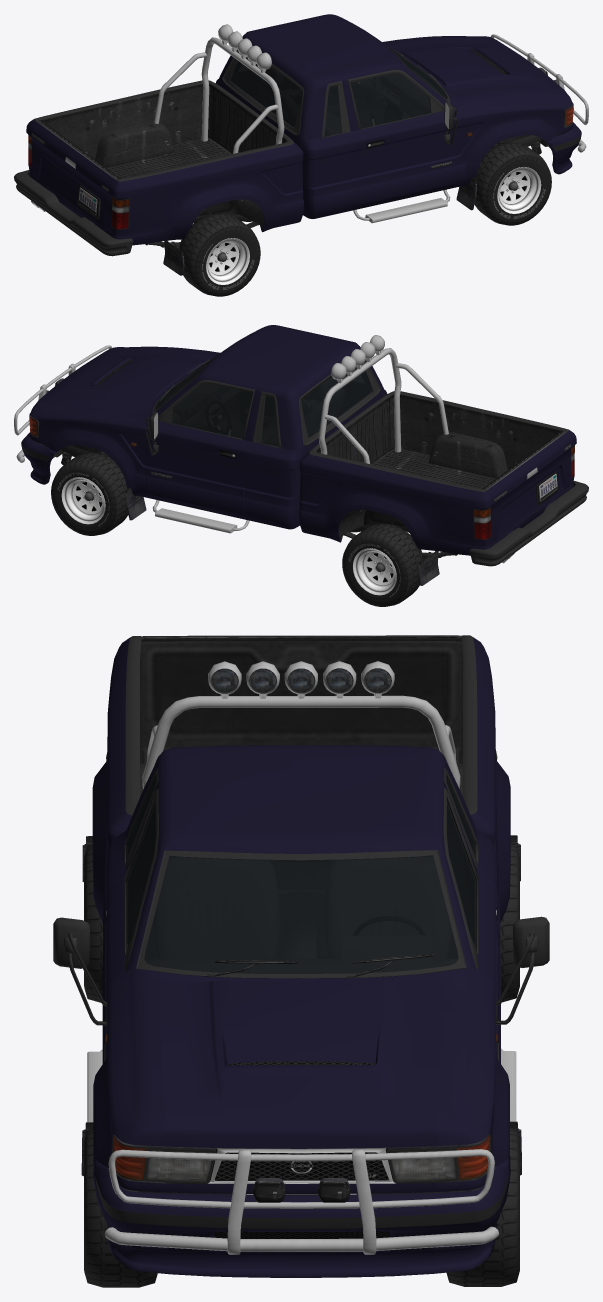
The model's file is lightbody85.glb.
3 views of the same model, one above another, from view 1: azimuth 30°, elevation 25°; view 2: azimuth 150°, elevation 25°; view 3: azimuth 270°, elevation 25° (orthographic). The views are drawn at different scales.
Parts seen in each view (by area): view 1: krmlgtbdy85_Body_krmlgtbdy85_Bodymat_0, krmlgtbdy85_Bottom_UCB_BOTTOM_0, krmlgtbdy85_Hood_krmlgtbdy85_Bodymat_0, krmlgtbdy85_Interior_UCB_Interiors_1_0, krmlgtbdy85_WheelStock_RR_RO1a_Tire_0, krmlgtbdy85_WheelStock_FR_RO1a_Tire_0, krmlgtbdy85_Trunkdoor_krmlgtbdy85_Bodymat_0, krmlgtbdy85_Extra_A_UCB_BOTTOM_0, krmlgtbdy85_Glass_Passanger_UCB_Lights_and_Glass_Transperent, krmlgtbdy85_Bumper_Rear_UCB_BOTTOM_0, krmlgtbdy85_Lifted_Trim_UCB_BOTTOM_0, krmlgtbdy85_Glass_Rear_UCB_Lights_and_Glass_Transperent_0 (+6 smaller); view 2: krmlgtbdy85_Body_krmlgtbdy85_Bodymat_0, krmlgtbdy85_Bottom_UCB_BOTTOM_0, krmlgtbdy85_Hood_krmlgtbdy85_Bodymat_0, krmlgtbdy85_Interior_UCB_Interiors_1_0, krmlgtbdy85_WheelStock_RL_RO1a_Tire_0, krmlgtbdy85_WheelStock_FL_RO1a_Tire_0, krmlgtbdy85_Trunkdoor_krmlgtbdy85_Bodymat_0, krmlgtbdy85_Extra_A_UCB_BOTTOM_0, krmlgtbdy85_Glass_Driver_UCB_Lights_and_Glass_Transperent_0, krmlgtbdy85_Bumper_Rear_UCB_BOTTOM_0, krmlgtbdy85_Lifted_Trim_UCB_BOTTOM_0, krmlgtbdy85_Glass_Rear_UCB_Lights_and_Glass_Transperent_0 (+6 smaller); view 3: krmlgtbdy85_Body_krmlgtbdy85_Bodymat_0, krmlgtbdy85_Hood_krmlgtbdy85_Bodymat_0, krmlgtbdy85_Interior_UCB_Interiors_1_0, krmlgtbdy85_Windshield_UCB_Lights_and_Glass_Transperent_0, krmlgtbdy85_Trunk_door_inner_UCB_BOTTOM_0, krmlgtbdy85_Bottom_UCB_BOTTOM_0, krmlgtbdy85_Bumper_Front_krmlgtbdy85_Bodymat_0, krmlgtbdy85_Bullbar_UCB_BOTTOM_0, krmlgtbdy85_Extra_A_UCB_BOTTOM_0, krmlgtbdy85_Lifted_Trim_UCB_BOTTOM_0, krmlgtbdy85_Bumper_front_inner_UCB_BOTTOM_0, krmlgtbdy85_Headlights_Glass_UCB_Lights_and_Glass_Transperen (+8 smaller).
Part boxes in pixels (<box>): krmlgtbdy85_Body_krmlgtbdy85_Bodymat_0: <box>26,14,573,245</box>; krmlgtbdy85_Bottom_UCB_BOTTOM_0: <box>28,42,573,230</box>; krmlgtbdy85_Hood_krmlgtbdy85_Bodymat_0: <box>386,38,563,97</box>; krmlgtbdy85_Interior_UCB_Interiors_1_0: <box>231,57,446,135</box>; krmlgtbdy85_WheelStock_RR_RO1a_Tire_0: <box>178,213,260,296</box>; krmlgtbdy85_WheelStock_FR_RO1a_Tire_0: <box>474,142,551,225</box>; krmlgtbdy85_Trunkdoor_krmlgtbdy85_Bodymat_0: <box>30,121,115,233</box>; krmlgtbdy85_Extra_A_UCB_BOTTOM_0: <box>154,24,284,153</box>; krmlgtbdy85_Glass_Passanger_UCB_Lights_and_Glass_Transperent: <box>350,73,430,128</box>; krmlgtbdy85_Bumper_Rear_UCB_BOTTOM_0: <box>14,170,133,256</box>; krmlgtbdy85_Lifted_Trim_UCB_BOTTOM_0: <box>163,101,476,275</box>; krmlgtbdy85_Glass_Rear_UCB_Lights_and_Glass_Transperent_0: <box>230,57,301,127</box>; krmlgtbdy85_Body_krmlgtbdy85_Bodymat_0: <box>29,325,576,555</box>; krmlgtbdy85_Bottom_UCB_BOTTOM_0: <box>29,352,574,563</box>; krmlgtbdy85_Hood_krmlgtbdy85_Bodymat_0: <box>39,349,215,407</box>; krmlgtbdy85_Interior_UCB_Interiors_1_0: <box>157,368,371,446</box>; krmlgtbdy85_WheelStock_RL_RO1a_Tire_0: <box>342,523,423,606</box>; krmlgtbdy85_WheelStock_FL_RO1a_Tire_0: <box>51,452,128,535</box>; krmlgtbdy85_Trunkdoor_krmlgtbdy85_Bodymat_0: <box>487,432,572,543</box>; krmlgtbdy85_Extra_A_UCB_BOTTOM_0: <box>318,335,448,463</box>; krmlgtbdy85_Glass_Driver_UCB_Lights_and_Glass_Transperent_0: <box>172,384,252,438</box>; krmlgtbdy85_Bumper_Rear_UCB_BOTTOM_0: <box>469,481,588,566</box>; krmlgtbdy85_Lifted_Trim_UCB_BOTTOM_0: <box>125,411,439,585</box>; krmlgtbdy85_Glass_Rear_UCB_Lights_and_Glass_Transperent_0: <box>301,367,372,437</box>; krmlgtbdy85_Body_krmlgtbdy85_Bodymat_0: <box>92,637,510,1193</box>; krmlgtbdy85_Hood_krmlgtbdy85_Bodymat_0: <box>160,978,442,1148</box>; krmlgtbdy85_Interior_UCB_Interiors_1_0: <box>129,782,473,973</box>; krmlgtbdy85_Windshield_UCB_Lights_and_Glass_Transperent_0: <box>144,855,458,973</box>; krmlgtbdy85_Trunk_door_inner_UCB_BOTTOM_0: <box>141,635,461,747</box>; krmlgtbdy85_Bottom_UCB_BOTTOM_0: <box>104,635,499,1195</box>; krmlgtbdy85_Bumper_Front_krmlgtbdy85_Bodymat_0: <box>92,1155,510,1277</box>; krmlgtbdy85_Bullbar_UCB_BOTTOM_0: <box>104,1149,498,1254</box>; krmlgtbdy85_Extra_A_UCB_BOTTOM_0: <box>142,661,460,788</box>; krmlgtbdy85_Lifted_Trim_UCB_BOTTOM_0: <box>53,835,549,1176</box>; krmlgtbdy85_Bumper_front_inner_UCB_BOTTOM_0: <box>95,1176,508,1238</box>; krmlgtbdy85_Headlights_Glass_UCB_Lights_and_Glass_Transperen: <box>113,1136,490,1182</box>.
Bounding box in the file's own units: 4.93 × 1.92 × 2.14.
8 materials, 7 textured.
